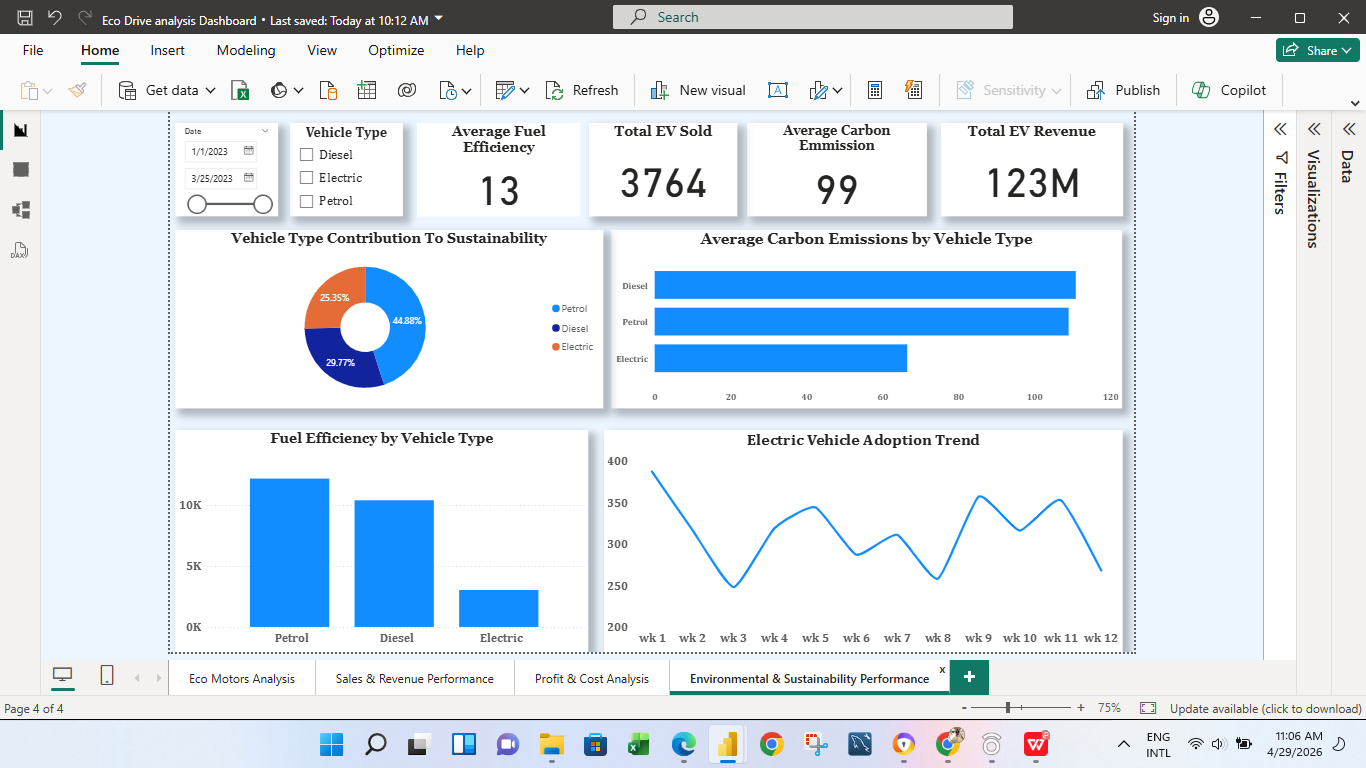

What the dashboard file says about the page in this screenshot:
{"tool":"powerbi","page":{"name":"Environmental & Sustainability Performance","canvas":[1280,720],"ordinal":3},"visuals":[{"type":"barChart","title":"Average Carbon Emissions by Vehicle Type","fields":{"Category":["Products.Vehicle Type"],"Y":["Products.Avg Emission"]},"box":[586.4,158.7,679.3,237.4],"z":0},{"type":"lineChart","title":"Electric Vehicle Adoption Trend","fields":{"Category":["Order Details.week"],"Y":["Sales Details.EV Units Sold"]},"box":[576.4,424.8,689.3,294.6],"z":1000},{"type":"donutChart","title":"Vehicle Type Contribution  To Sustainability","fields":{"Category":["Sales Details.Vehicle Type"],"Y":["Sum(Sales Details.Units Sold)"]},"box":[7.2,158.7,569.2,237.4],"z":2000},{"type":"card","title":"Total EV Revenue","fields":{"Values":["Sales Details.EV Revenue"]},"box":[1024,17.2,241.7,124.4],"z":3000},{"type":"slicer","title":"Vehicle Type","fields":{"Values":["Order Details.Vehicle Type"]},"box":[158.7,17.2,150.2,124.4],"z":4000},{"type":"card","title":"Average Carbon Emmission","fields":{"Values":["Products.Avg Emission"]},"box":[766.6,17.2,238.8,124.4],"z":5000},{"type":"card","title":"Total EV Sold","fields":{"Values":["Sales Details.EV Units Sold"]},"box":[556.3,17.2,197.4,124.4],"z":6000},{"type":"card","title":"Average Fuel Efficiency","fields":{"Values":["Products.Avg Fuel Efficiency"]},"box":[327.5,17.2,217.4,124.4],"z":7000},{"type":"columnChart","title":"Fuel Efficiency by Vehicle Type","fields":{"Category":["Products.Vehicle Type"],"Y":["Sum(Products.Fuel Efficiency (km/l  or km/kWh))"]},"box":[7.2,424.8,549.2,294.6],"z":8000},{"type":"slicer","fields":{"Values":["Date Table.Date"]},"box":[7.2,17.2,137.3,124.4],"z":9000}]}

Visuals, with their boxes on the page's 1280x720 design canvas (x1, y1, x2, y2). These are canvas units, not pixel positions in the 1366x768 screenshot, which may show the page scaled, cropped or inside an application window:
"Average Carbon Emissions by Vehicle Type" barChart: crop(586, 159, 1266, 396)
"Electric Vehicle Adoption Trend" lineChart: crop(576, 425, 1266, 719)
"Vehicle Type Contribution  To Sustainability" donutChart: crop(7, 159, 576, 396)
"Total EV Revenue" card: crop(1024, 17, 1266, 142)
"Vehicle Type" slicer: crop(159, 17, 309, 142)
"Average Carbon Emmission" card: crop(767, 17, 1005, 142)
"Total EV Sold" card: crop(556, 17, 754, 142)
"Average Fuel Efficiency" card: crop(328, 17, 545, 142)
"Fuel Efficiency by Vehicle Type" columnChart: crop(7, 425, 556, 719)
slicer - Date Table.Date: crop(7, 17, 144, 142)
